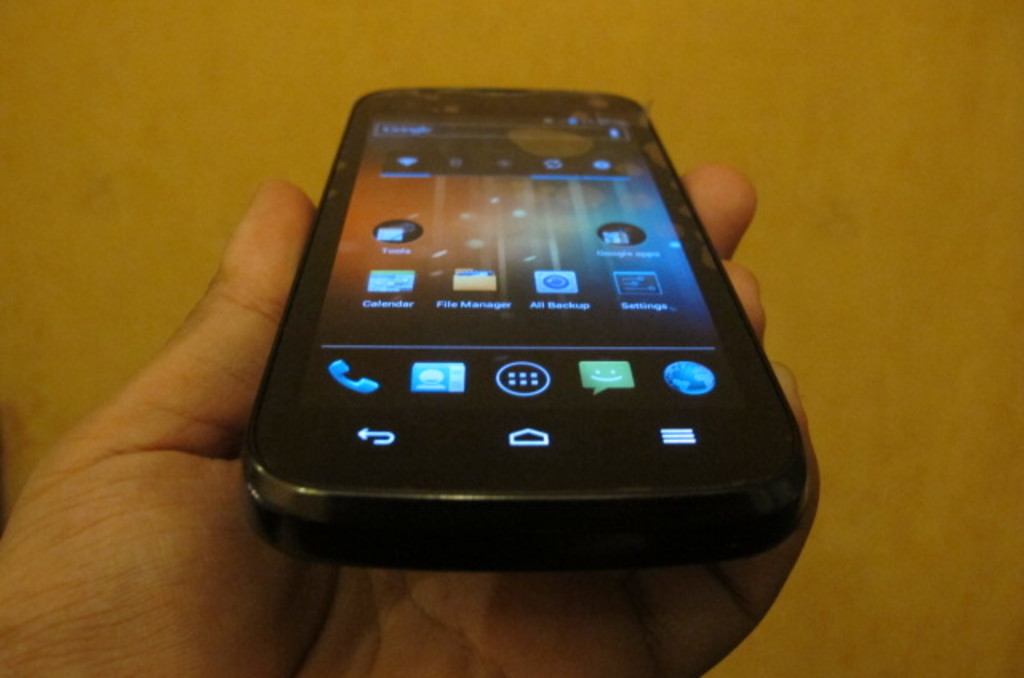Mobile-phone: (225, 85, 816, 579)
